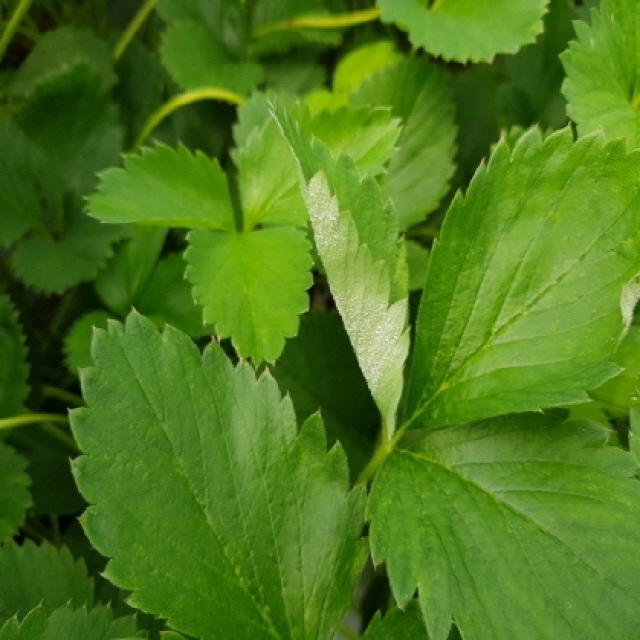powdery_mildew_leaf: (399, 119, 638, 430), (266, 97, 411, 438)
